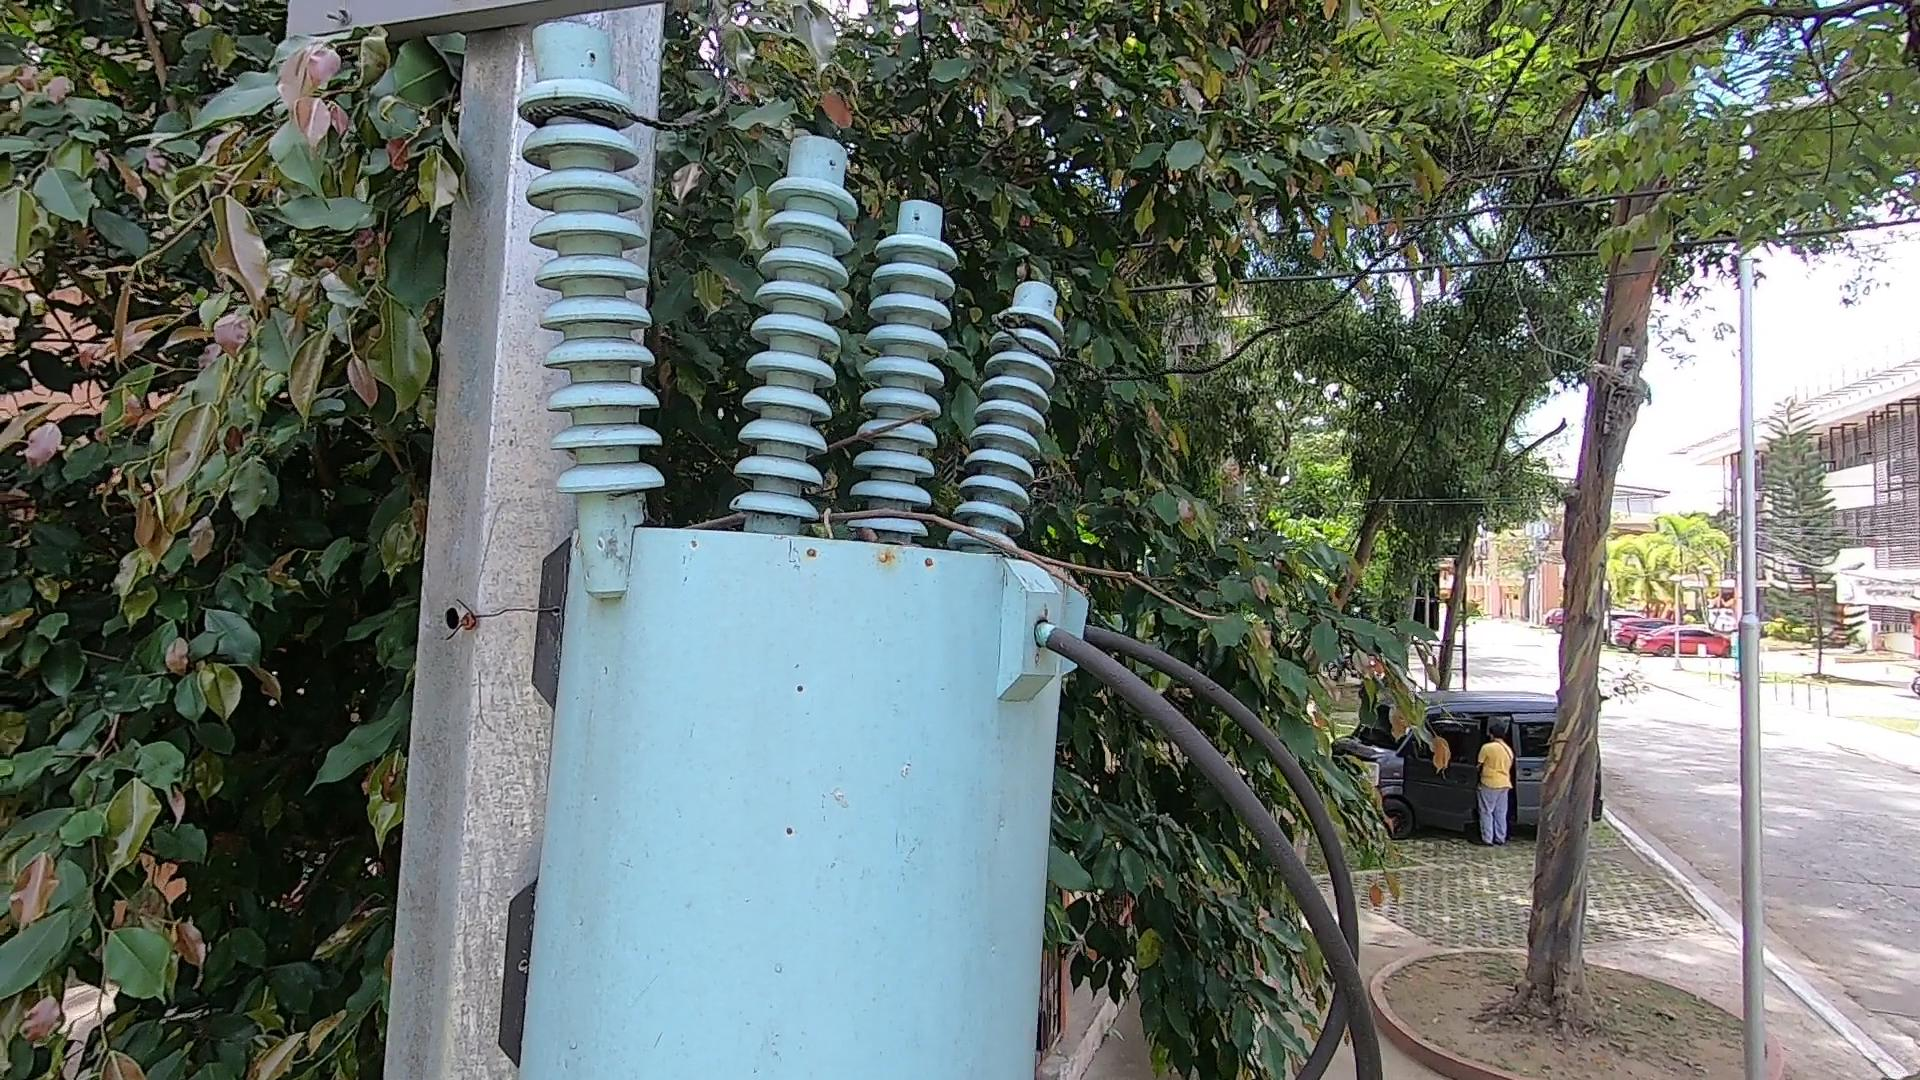leaf: (836, 521, 906, 545)
tree branch: (676, 448, 1251, 644)
